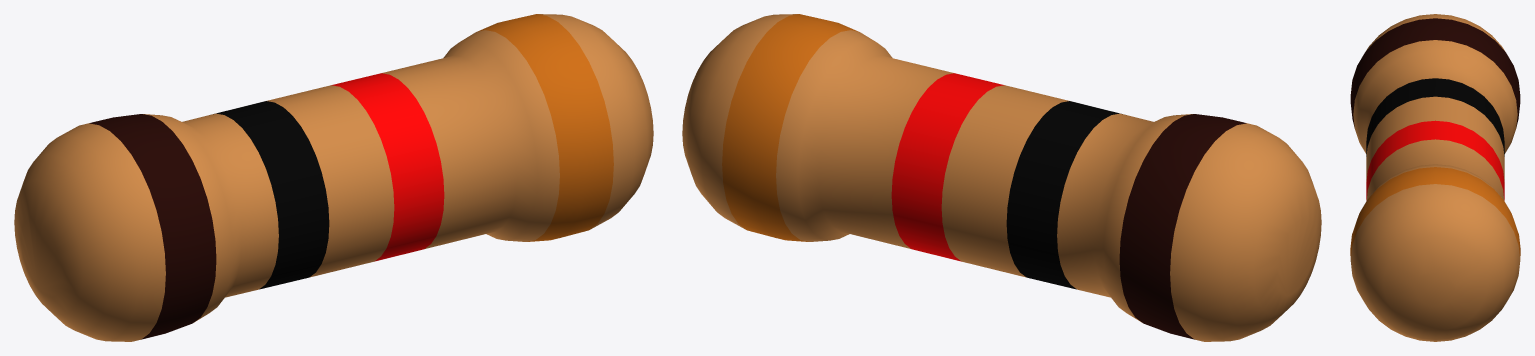
File: resistor.obj
The picture shows the model from 3 angles, left to right: view 1: azimuth 30°, elevation 25°; view 2: azimuth 150°, elevation 25°; view 3: azimuth 270°, elevation 25°; orthographic projection. The views are drawn at different scales.
Parts seen in each view (by area): view 1: Body_Cylinder.001_Body_Cylinder.002; view 2: Body_Cylinder.001_Body_Cylinder.002; view 3: Body_Cylinder.001_Body_Cylinder.002.
Part boxes in pixels (<box>): Body_Cylinder.001_Body_Cylinder.002: <box>14,14,653,341</box>; Body_Cylinder.001_Body_Cylinder.002: <box>682,14,1321,341</box>; Body_Cylinder.001_Body_Cylinder.002: <box>1350,14,1520,341</box>.
Size of the model in its own units: 1.68 by 0.5507 by 0.5507.
